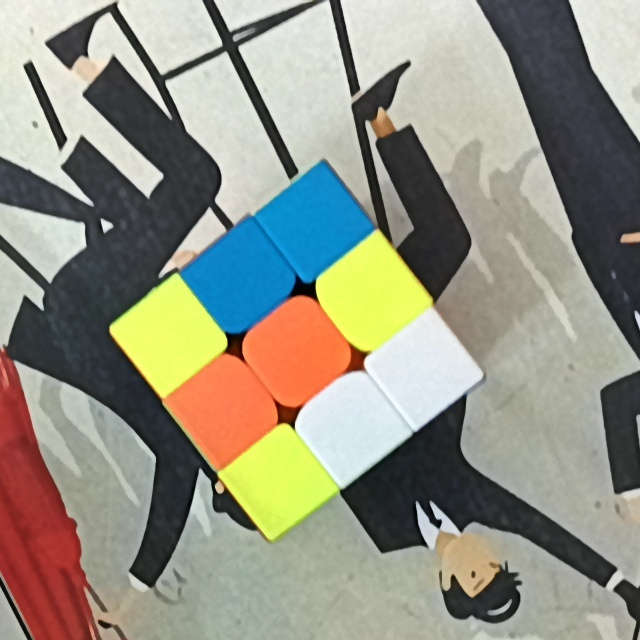tile: (337, 264, 402, 326), (263, 320, 327, 382), (192, 378, 253, 442), (324, 393, 382, 455), (139, 307, 198, 367), (286, 192, 344, 253), (394, 340, 455, 398), (250, 453, 309, 512), (212, 251, 272, 307)
